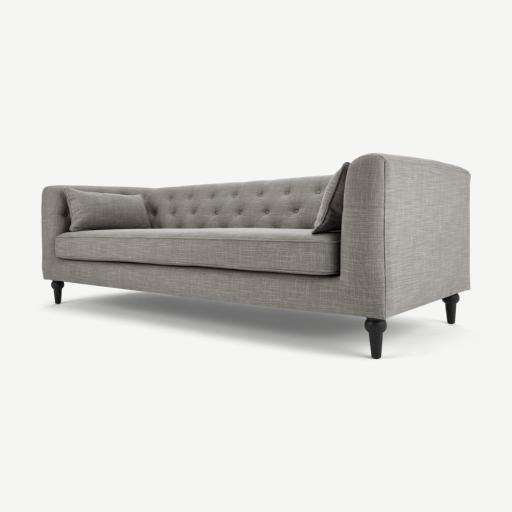back_cushion: (140, 176, 331, 230)
base: (44, 259, 385, 319)
left_arm: (340, 154, 469, 317)
legs: (365, 318, 387, 359), (442, 294, 459, 324), (51, 282, 64, 304)
one-seater: (42, 154, 470, 358)
right_arm: (42, 186, 70, 278), (79, 187, 149, 196)
seat_cushion: (54, 228, 339, 275)
